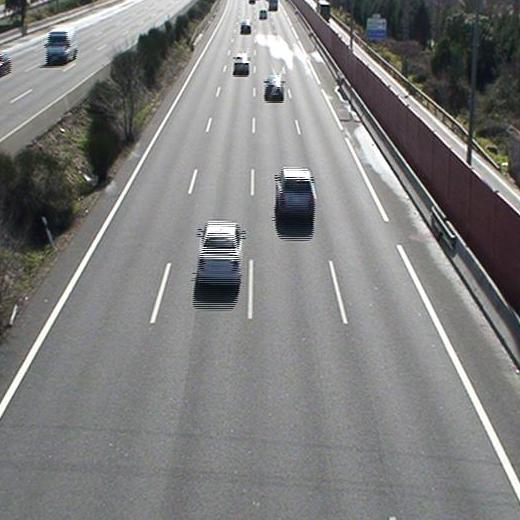car: (196, 222, 243, 287), (274, 168, 316, 219), (264, 75, 285, 102), (233, 54, 250, 75), (239, 20, 251, 34)
